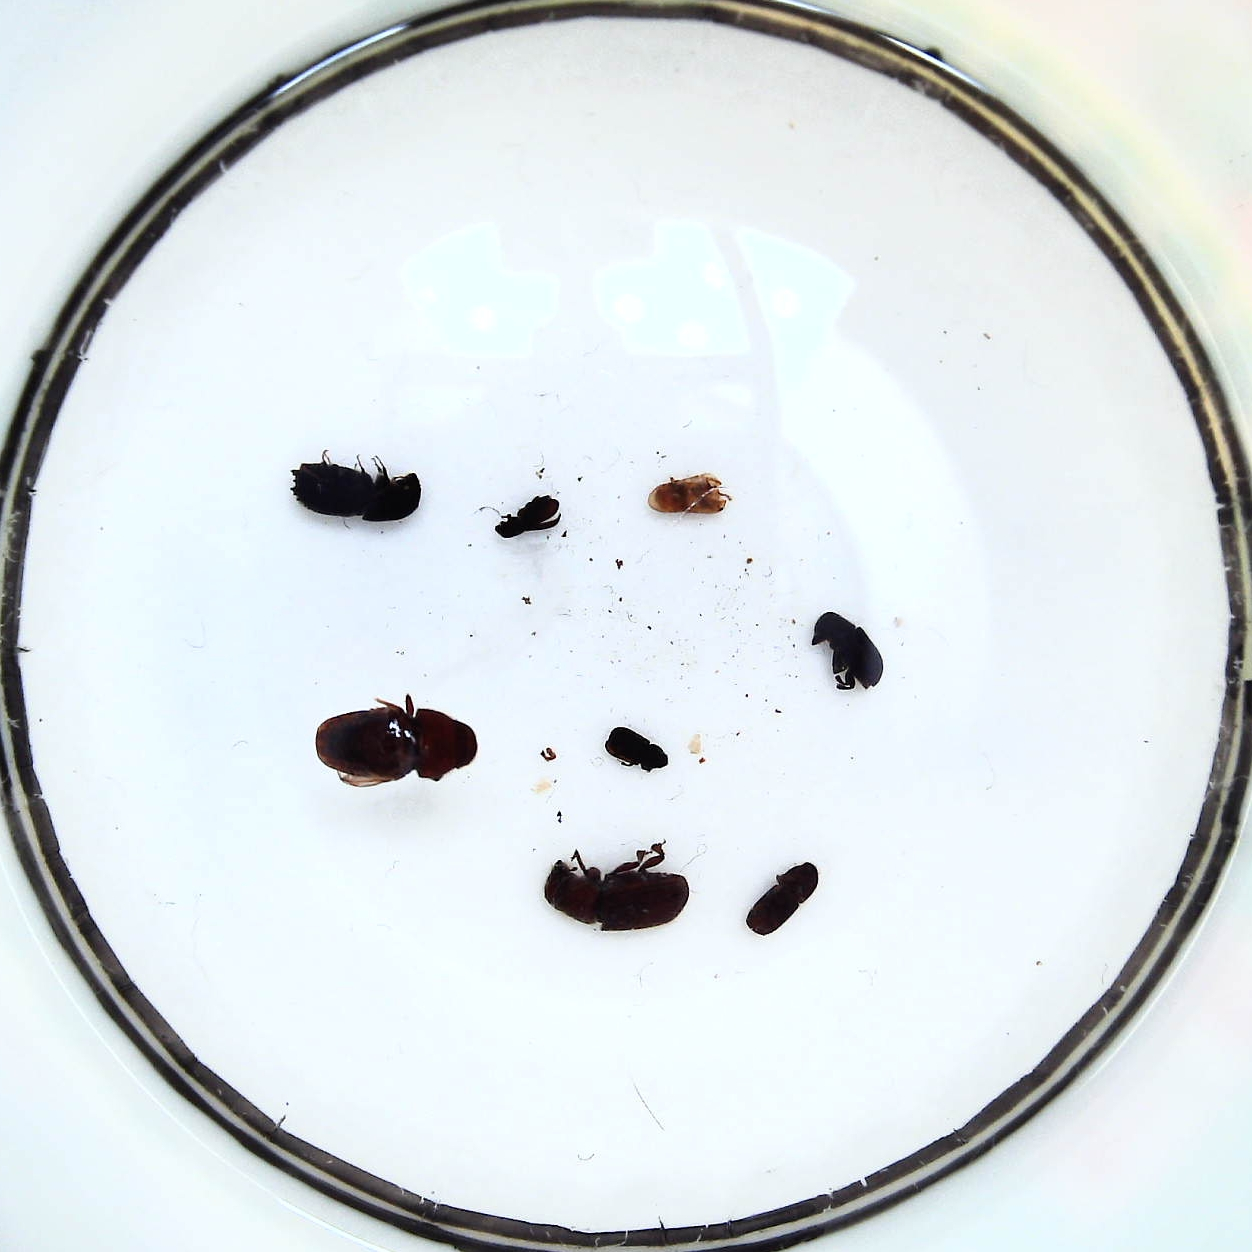Boerner: (292, 462, 422, 522)
Leconte: (316, 706, 478, 783), (543, 859, 689, 932)
acuminatus: (494, 493, 560, 538), (604, 726, 668, 770)
armandi: (811, 612, 883, 690)
coleoptera: (647, 472, 726, 512)
linnaeus: (746, 861, 817, 936)
